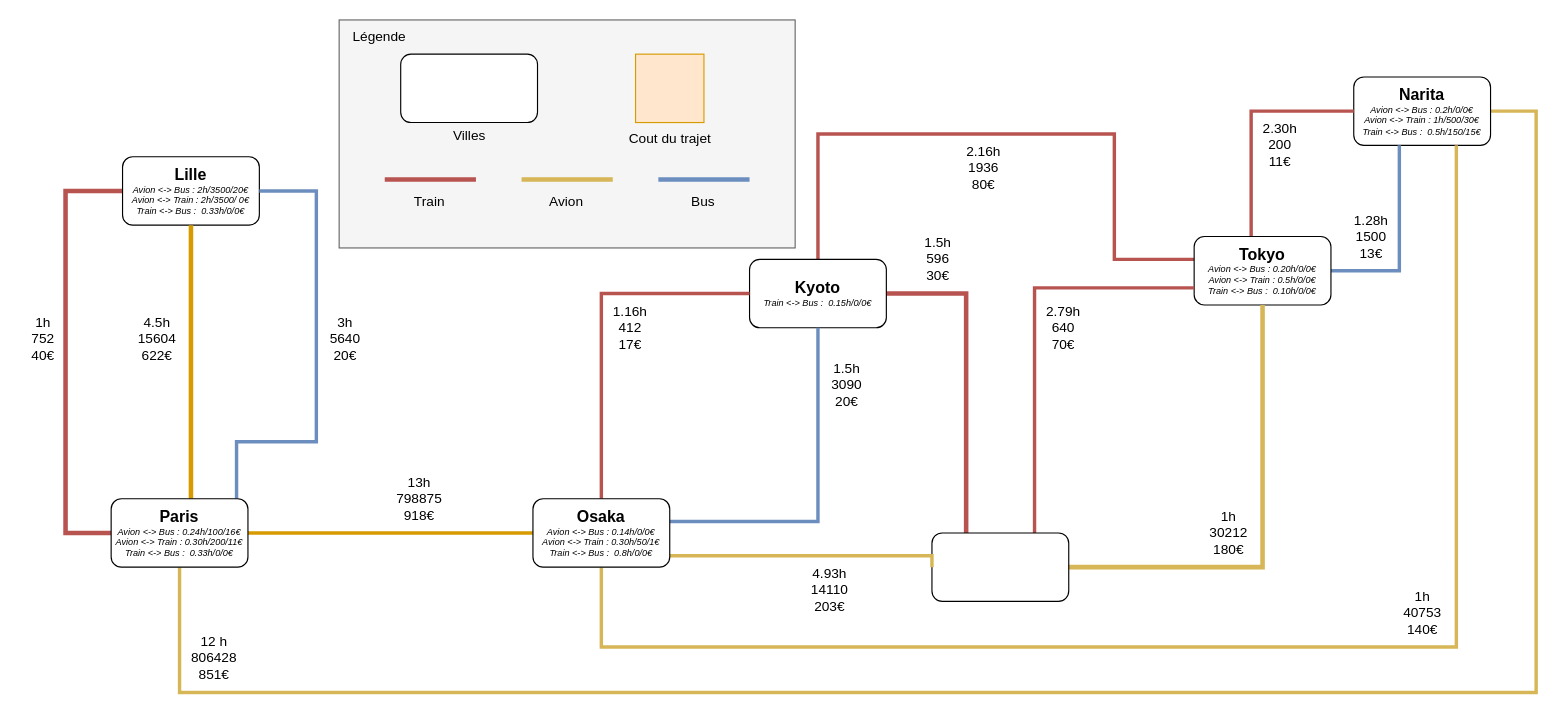
This 1558x715 diagram has some shape labels left out. The shapes that lost their labels are listed below. From the top down, each one's centre as x and y in pixels, then its label:
At (x=469, y=88): "Ville Cout des changement(s)".
At (x=669, y=88): "Temps CO 2 Prix".
At (x=1000, y=566): "Nagoya Avion <-> Train : 1h/500/14€".
